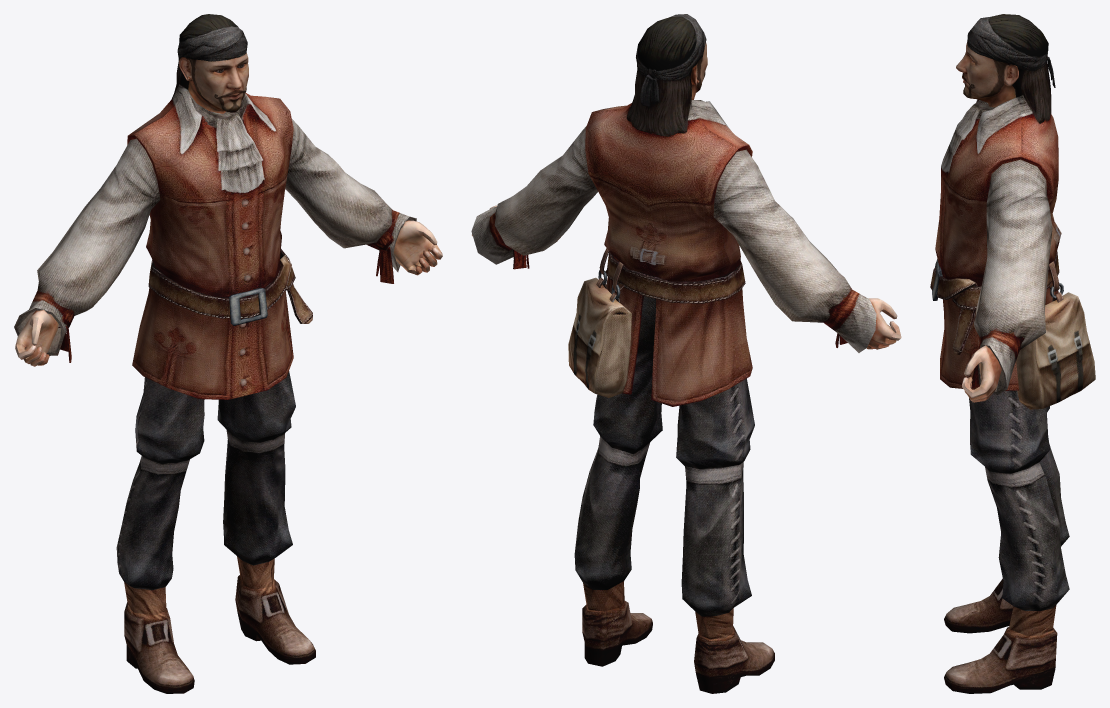
Rendered from pirate-money-lender.fbx.
3 views of the same model, side by side, from view 1: azimuth 30°, elevation 25°; view 2: azimuth 150°, elevation 25°; view 3: azimuth 270°, elevation 25° (orthographic).
Visible parts, largest first — view 1: pirates-moneylender-01; view 2: pirates-moneylender-01; view 3: pirates-moneylender-01.
Boxes of the visible parts, <box> form: pirates-moneylender-01: <box>14,14,442,693</box>; pirates-moneylender-01: <box>471,14,901,693</box>; pirates-moneylender-01: <box>930,14,1095,693</box>.
Bounding box in the file's own units: 600 × 868 × 204.
